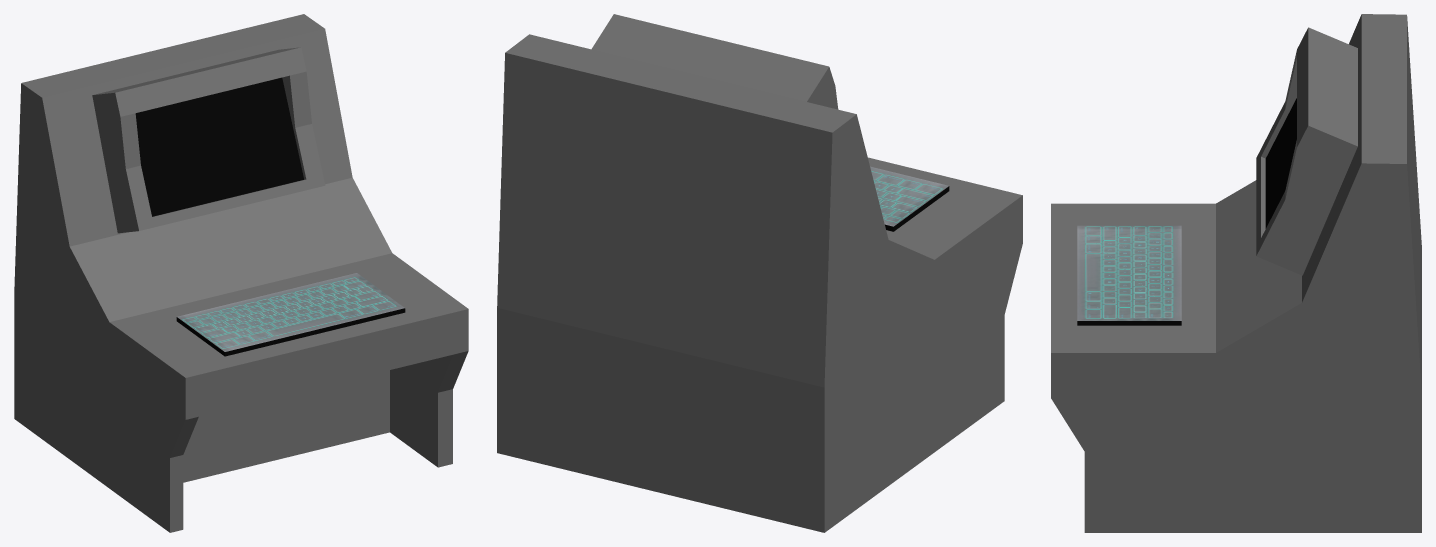
The model's file is Terminal2.fbx.
3 views of the same model, side by side, from view 1: azimuth 30°, elevation 25°; view 2: azimuth 150°, elevation 25°; view 3: azimuth 270°, elevation 25° (orthographic). The views are drawn at different scales.
Parts seen in each view (by area): view 1: polySurface21; view 2: polySurface21; view 3: polySurface21.
Boxes of the visible parts, x1,y1,x2,y2 form: polySurface21: [14, 14, 468, 532]; polySurface21: [497, 14, 1022, 532]; polySurface21: [1051, 14, 1421, 532].
Bounding box in the file's own units: 2.32 × 2.76 × 2.43.
